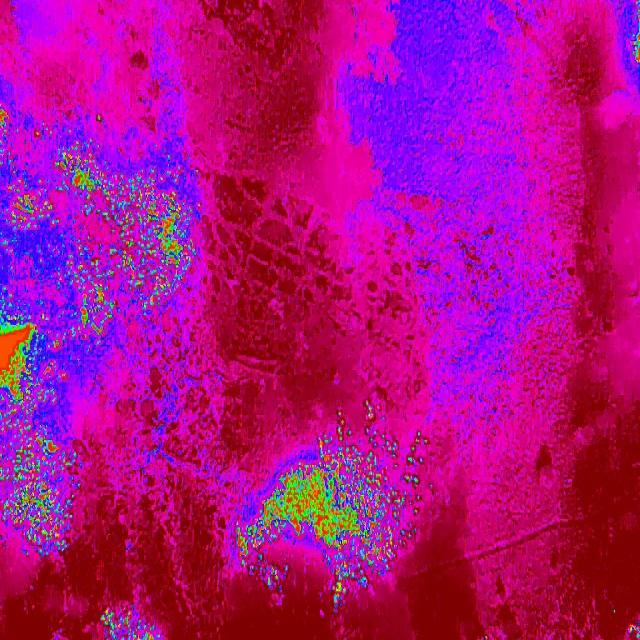fire: (0, 90, 91, 570), (236, 412, 423, 556), (90, 141, 206, 371), (325, 558, 393, 612), (98, 596, 166, 640), (238, 558, 290, 593), (624, 0, 640, 70), (626, 622, 640, 640)
